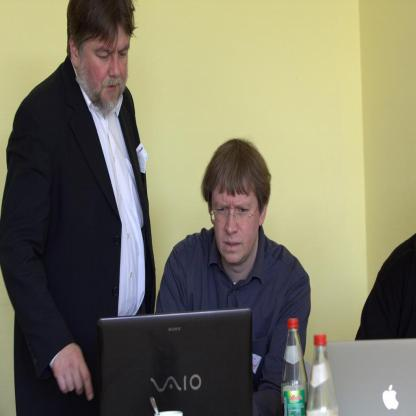board: (93, 306, 269, 411), (327, 340, 416, 416), (282, 316, 308, 416), (307, 335, 338, 416)
